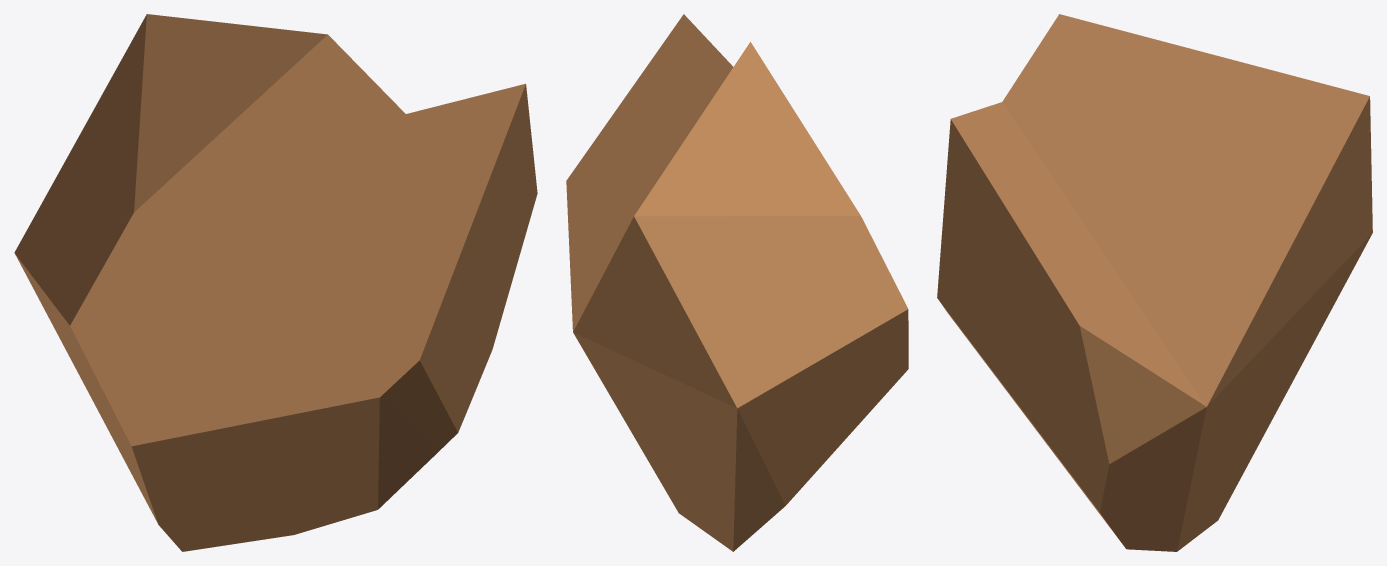
The model's file is asteroid_1.glb.
3 views of the same model, side by side, from view 1: azimuth 30°, elevation 25°; view 2: azimuth 150°, elevation 25°; view 3: azimuth 270°, elevation 25° (orthographic). The views are drawn at different scales.
Parts seen in each view (by area): view 1: Asteriod_cell_1; view 2: Asteriod_cell_1; view 3: Asteriod_cell_1.
Part boxes in pixels (box(x1,y1,x2,y2)): Asteriod_cell_1: box(14, 14, 537, 551); Asteriod_cell_1: box(566, 14, 908, 551); Asteriod_cell_1: box(937, 14, 1372, 551).
Bounding box in the file's own units: 1.48 × 1.78 × 1.31.
